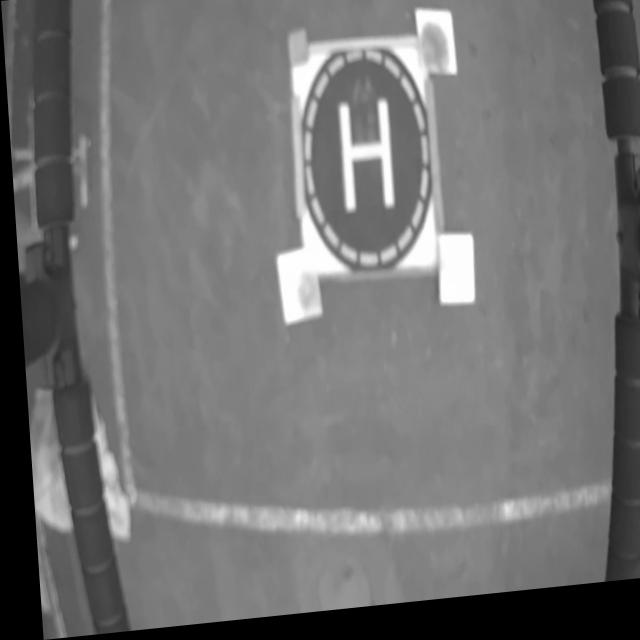Helipad: (336, 105, 391, 220)
